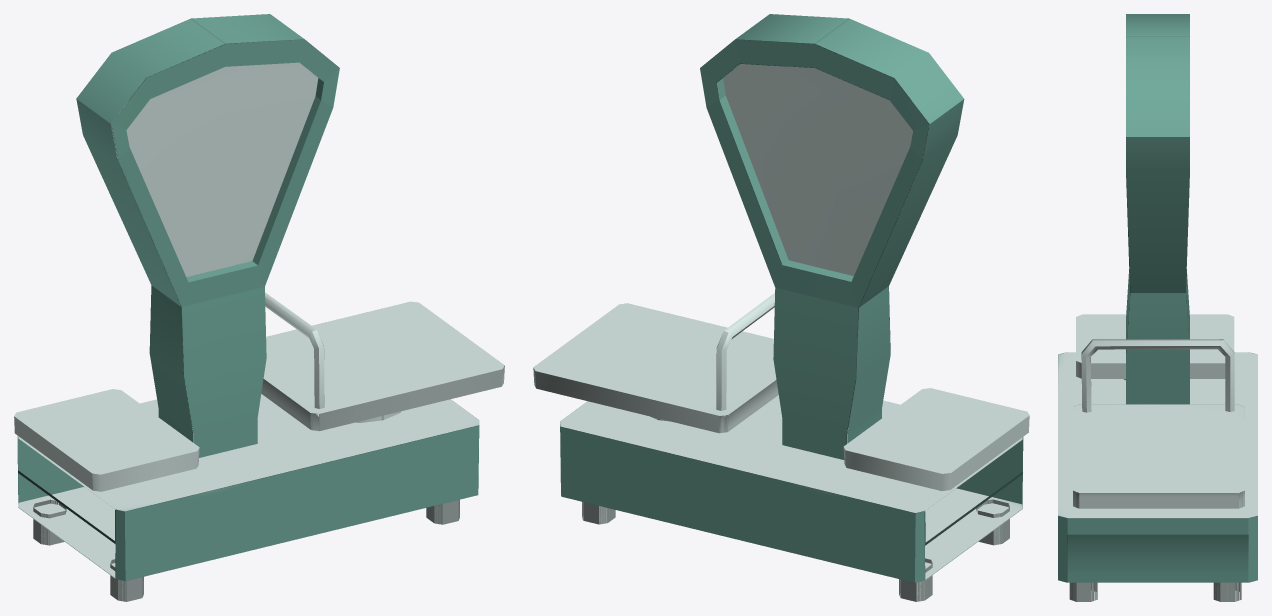
Rendered from Vesy_store.FBX.
3 renders of one model, left to right at view 1: azimuth 30°, elevation 25°; view 2: azimuth 150°, elevation 25°; view 3: azimuth 270°, elevation 25°, orthographic. The views are drawn at different scales.
Visible parts, largest first — view 1: Vesy_store_003; view 2: Vesy_store_003; view 3: Vesy_store_003.
Part boxes in pixels (bbox=[...]): Vesy_store_003: bbox=[14, 14, 504, 601]; Vesy_store_003: bbox=[533, 14, 1029, 601]; Vesy_store_003: bbox=[1058, 14, 1257, 601].
Size of the model in its own units: 160 by 188 by 72.38.
Materials: 1 (1 with a texture image).
